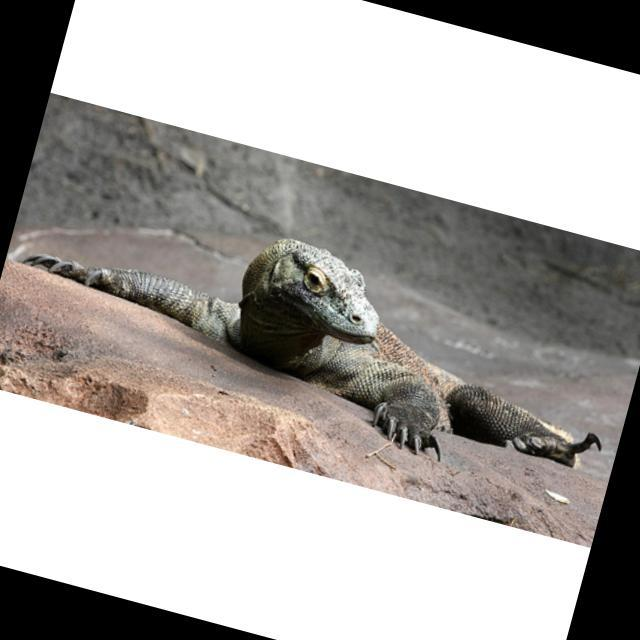KomodoDragon: (0, 169, 635, 506)
